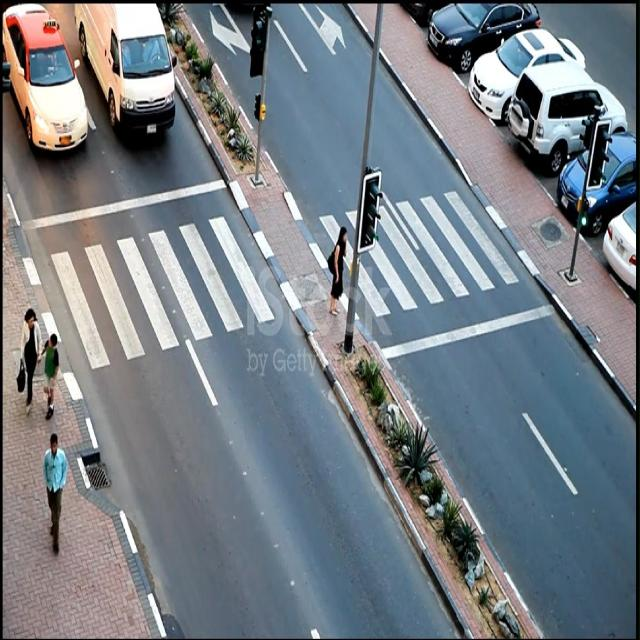pedestrian: (44, 433, 67, 552), (20, 308, 41, 411), (328, 227, 346, 314), (43, 334, 59, 384), (46, 386, 53, 419)
